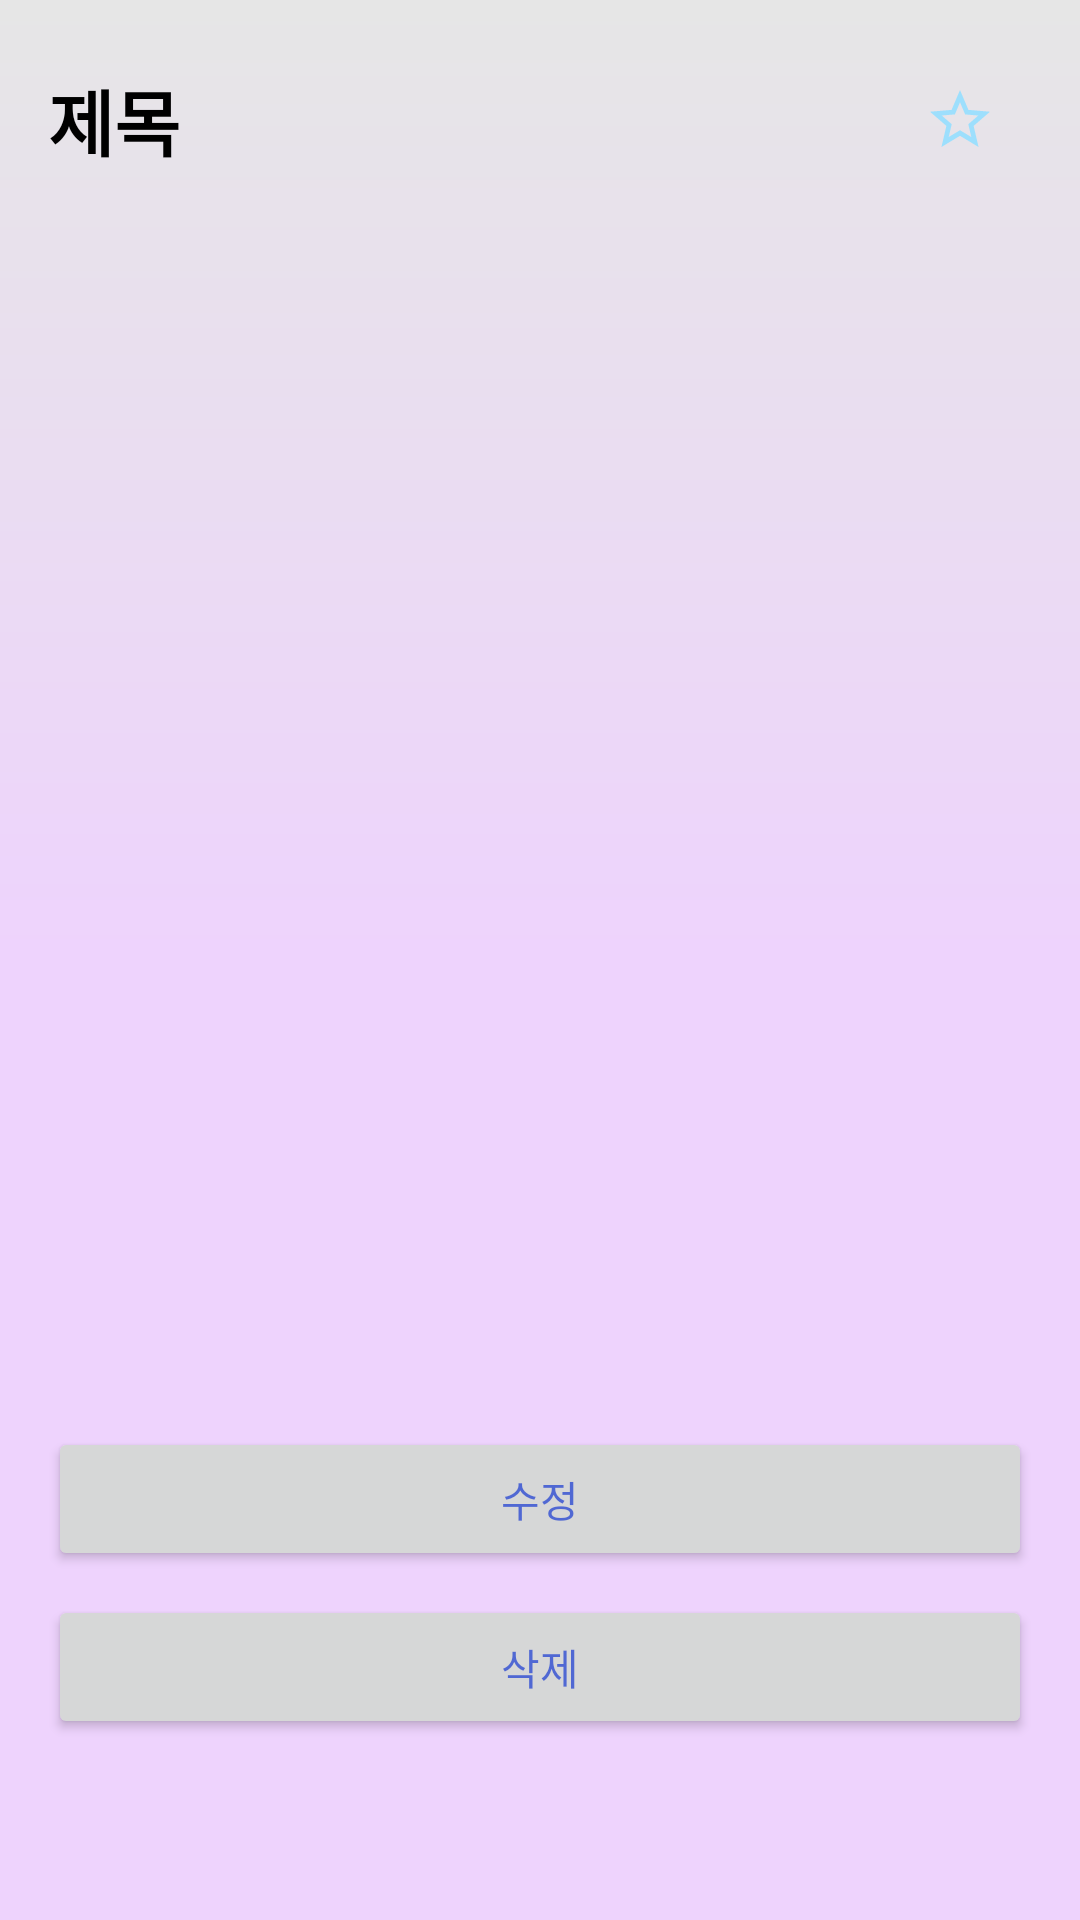

Named icons in this screenshot (1080w x 1920h) and their centers, point (x, y):
즐겨찾기: point (960, 119)
